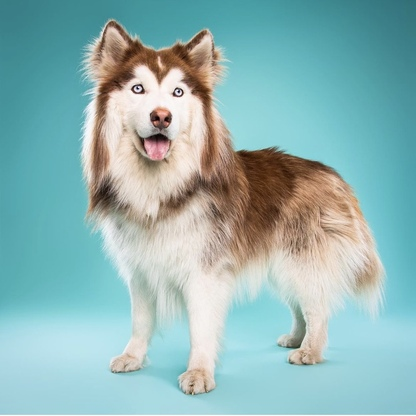husky: (75, 14, 394, 398)
